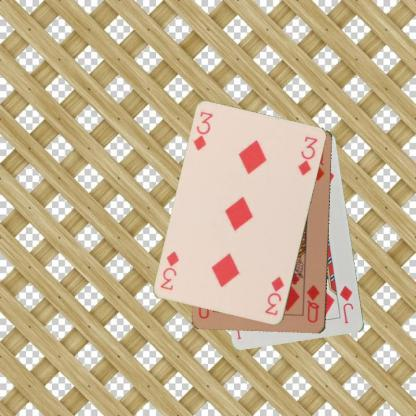3d: (262, 274, 286, 317), (191, 109, 214, 153)
Jd: (337, 283, 355, 325)
Qd: (304, 283, 322, 324)
